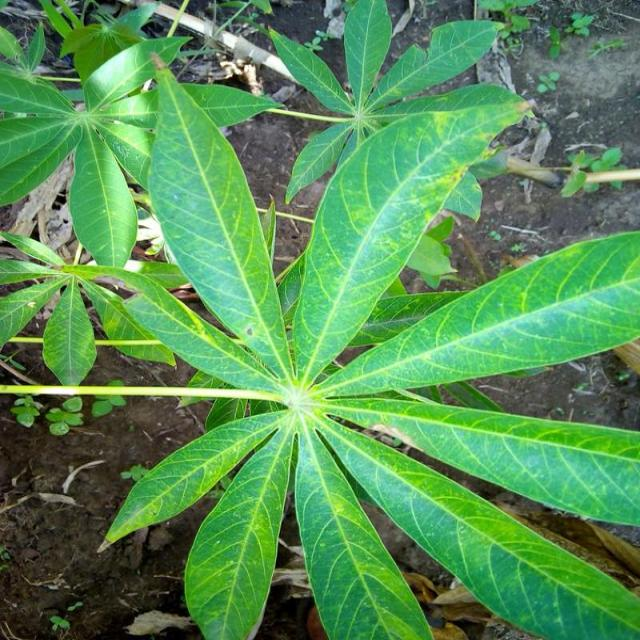cassava leaf: (2, 1, 640, 638), (291, 83, 531, 390), (147, 65, 295, 387)
